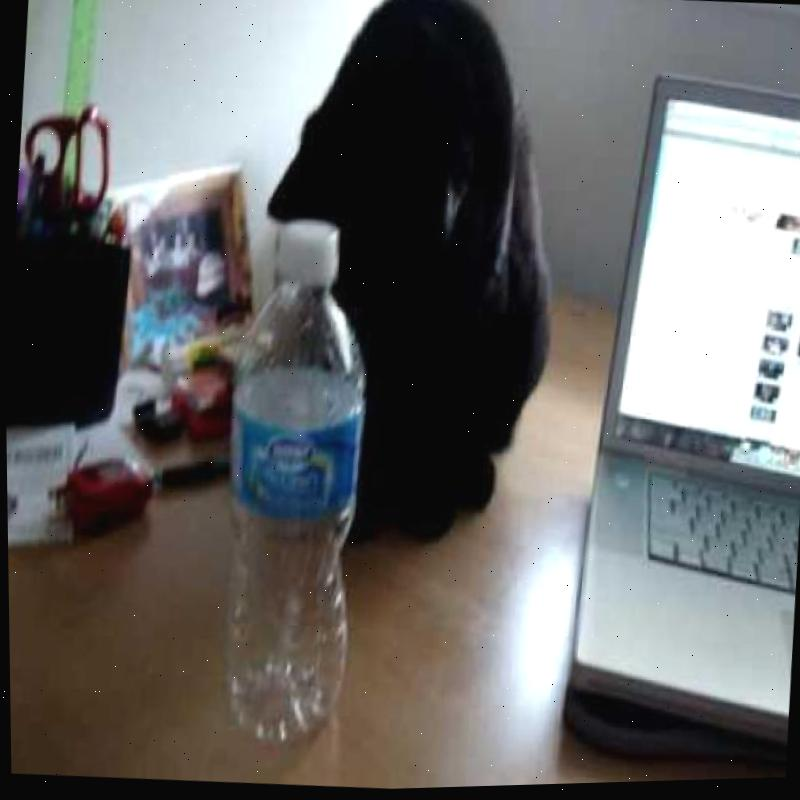botella: (194, 212, 384, 753)
